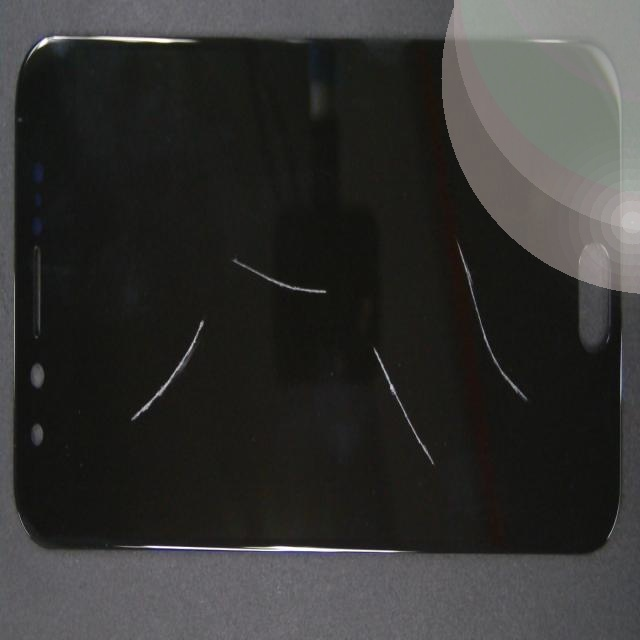scratch: (258, 299, 631, 621), (313, 290, 640, 508), (119, 180, 318, 488), (223, 156, 455, 401)
